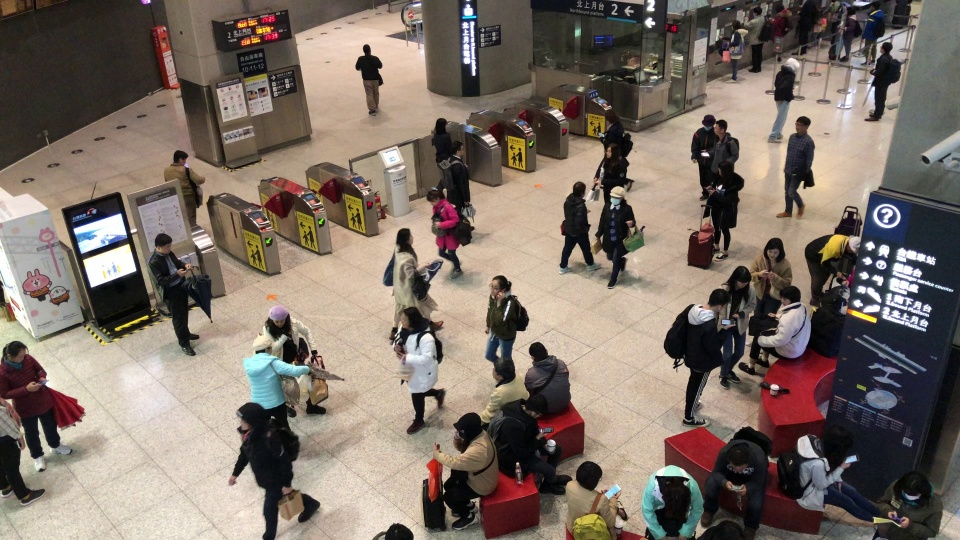person_head: (824, 424, 853, 456), (575, 460, 602, 490), (453, 412, 481, 439), (236, 402, 262, 429), (666, 485, 691, 511), (900, 473, 925, 499), (715, 519, 744, 540), (490, 357, 515, 381), (2, 340, 29, 362), (728, 444, 749, 472), (525, 393, 548, 418), (400, 306, 422, 330), (708, 288, 730, 312), (384, 523, 414, 540), (268, 305, 289, 328), (778, 285, 801, 306), (489, 274, 509, 296), (733, 265, 751, 289), (252, 335, 273, 354), (766, 237, 784, 259), (154, 233, 172, 254), (395, 227, 414, 246), (528, 341, 547, 360), (609, 185, 626, 205), (426, 188, 444, 206), (794, 115, 811, 132), (572, 181, 587, 199), (713, 118, 728, 136), (172, 149, 188, 165), (717, 161, 733, 177), (847, 235, 861, 253), (605, 143, 620, 158), (701, 115, 716, 130), (604, 110, 620, 124), (451, 140, 464, 157), (785, 57, 800, 71), (435, 117, 447, 132), (879, 41, 892, 53), (752, 5, 763, 16), (774, 3, 785, 13), (731, 20, 741, 30), (362, 43, 371, 54), (846, 7, 856, 16), (870, 2, 880, 9)
person_vbox: (227, 402, 320, 540), (776, 425, 880, 527), (0, 340, 72, 472), (663, 287, 730, 428), (486, 393, 573, 496), (700, 426, 772, 539), (262, 305, 326, 417), (391, 306, 446, 435), (442, 411, 498, 530), (738, 285, 811, 376), (146, 232, 199, 357), (243, 334, 310, 430), (388, 228, 443, 340), (744, 237, 792, 354), (716, 265, 757, 389), (871, 471, 944, 540), (565, 460, 628, 539), (0, 397, 45, 507), (641, 465, 704, 540), (700, 161, 745, 262), (594, 185, 636, 289), (803, 234, 861, 307), (558, 181, 602, 275), (776, 115, 814, 217), (484, 274, 528, 361), (523, 341, 571, 417), (436, 140, 475, 232), (426, 189, 463, 280), (479, 357, 530, 422), (163, 149, 205, 226), (863, 41, 901, 122), (700, 119, 740, 194), (597, 110, 634, 191), (766, 57, 800, 143), (690, 114, 716, 200), (742, 6, 774, 74), (354, 44, 384, 116), (592, 143, 627, 203), (717, 20, 749, 85), (859, 1, 885, 65), (767, 3, 793, 64), (431, 118, 452, 193), (791, 0, 819, 55), (836, 6, 862, 63), (823, 0, 849, 47)
